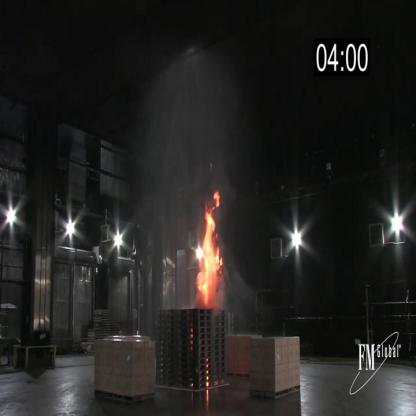fire: (197, 187, 224, 313)
